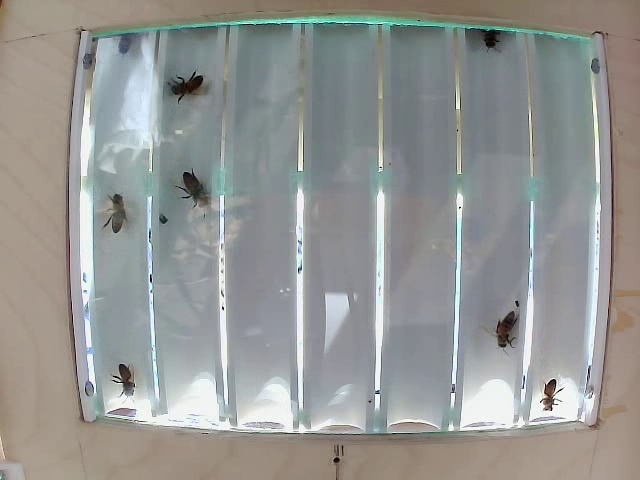bee: (539, 373, 583, 419), (178, 174, 220, 220), (487, 306, 534, 344), (95, 202, 137, 243), (167, 61, 206, 100), (114, 364, 146, 403)
